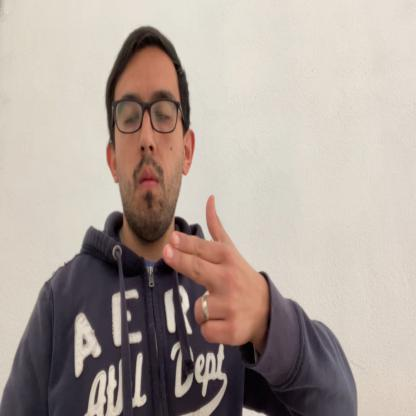H: (163, 192, 267, 346)
